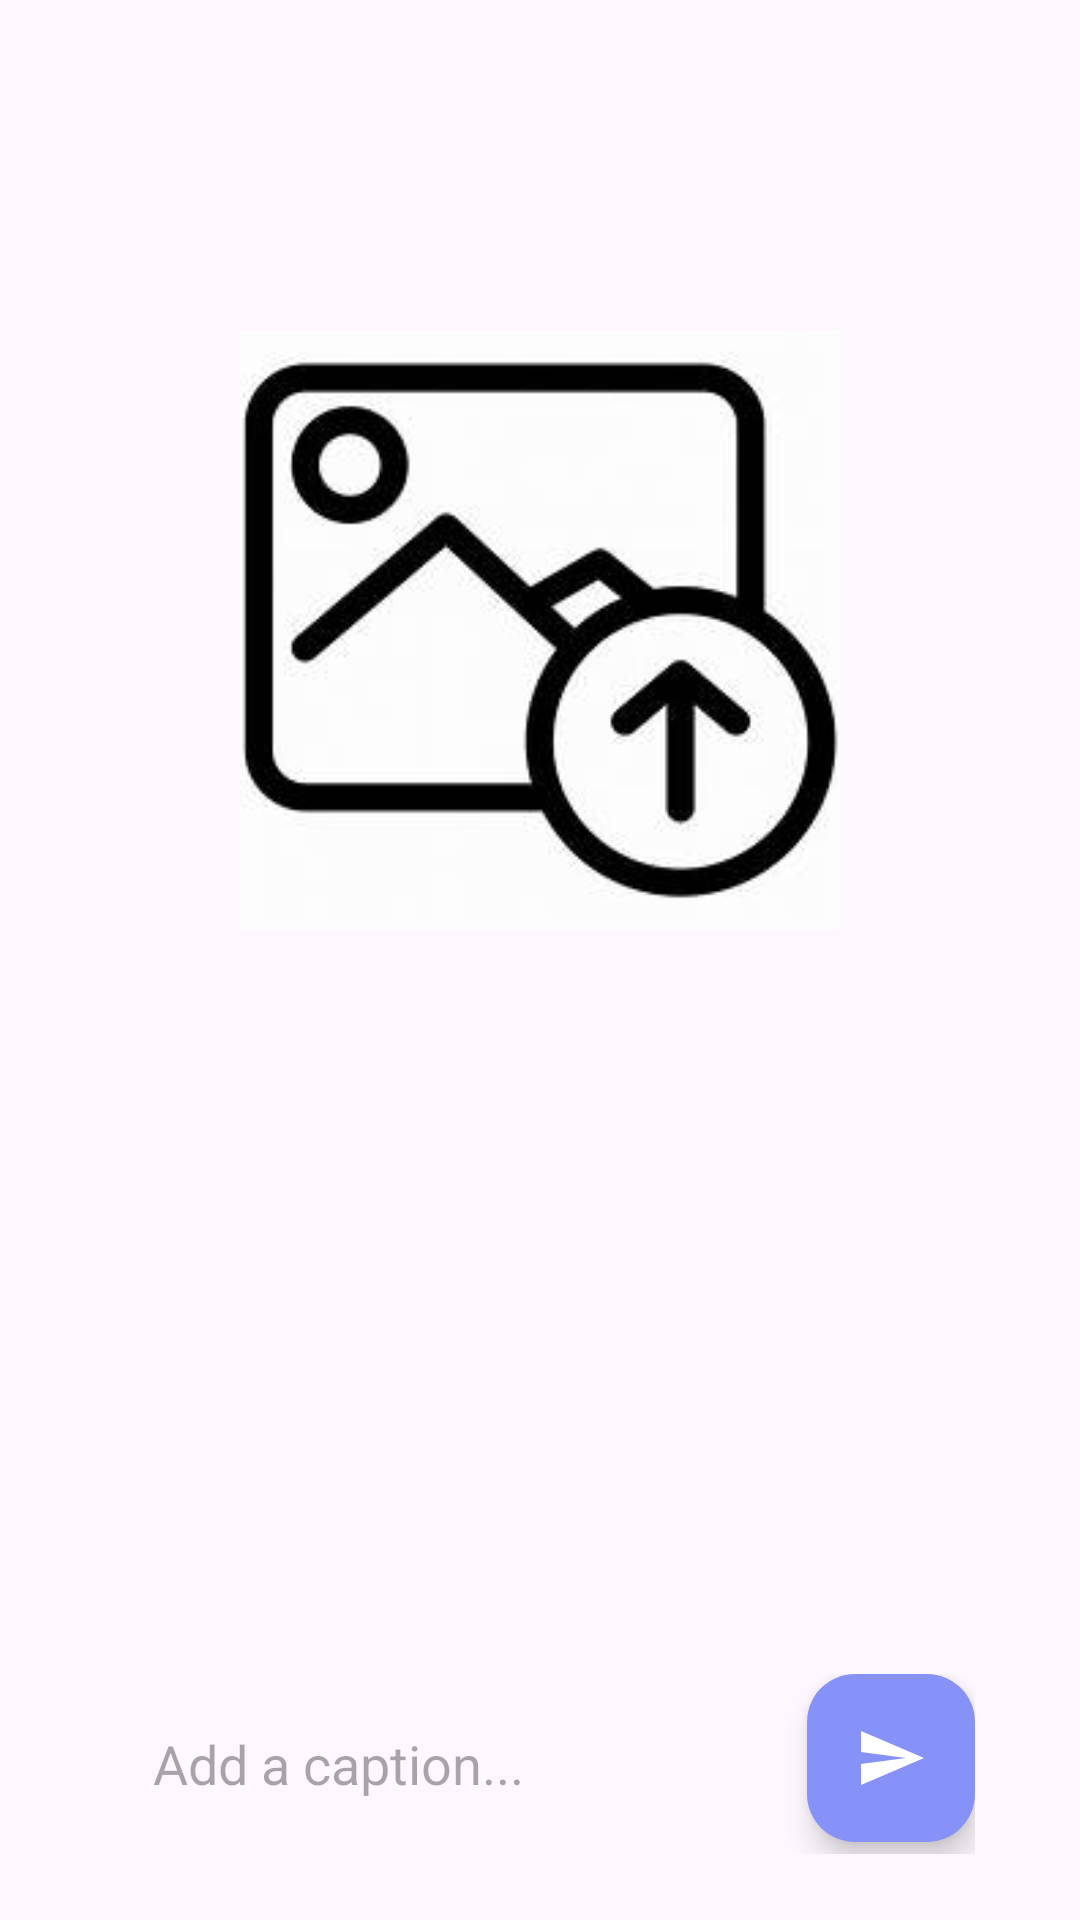

Where to tap for icons on this 1080×1920 app screen, as [x,y]:
send: [891,1758]
